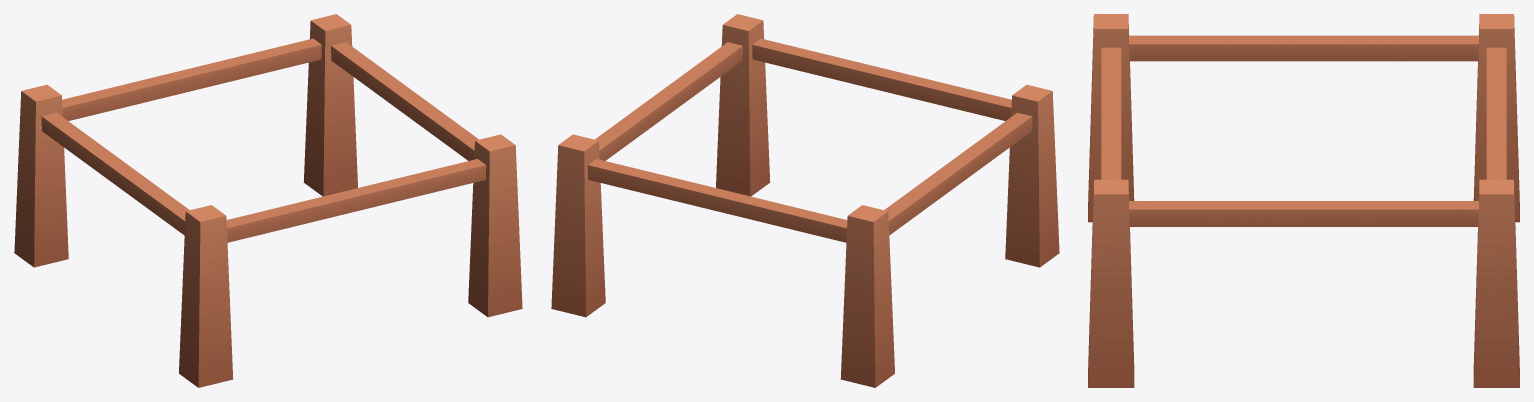
The model's file is structure-floor_lev3.glb.
The picture shows the model from 3 angles, left to right: view 1: azimuth 30°, elevation 25°; view 2: azimuth 150°, elevation 25°; view 3: azimuth 270°, elevation 25°; orthographic projection. The views are drawn at different scales.
Visible parts, largest first — view 1: structure-floor_lev3; view 2: structure-floor_lev3; view 3: structure-floor_lev3.
Part boxes in pixels (<box>): structure-floor_lev3: <box>14,14,522,387</box>; structure-floor_lev3: <box>551,14,1059,387</box>; structure-floor_lev3: <box>1088,14,1519,387</box>.
Bounding box in the file's own units: 7.06 × 3.39 × 6.94.
1 material, 1 textured.
